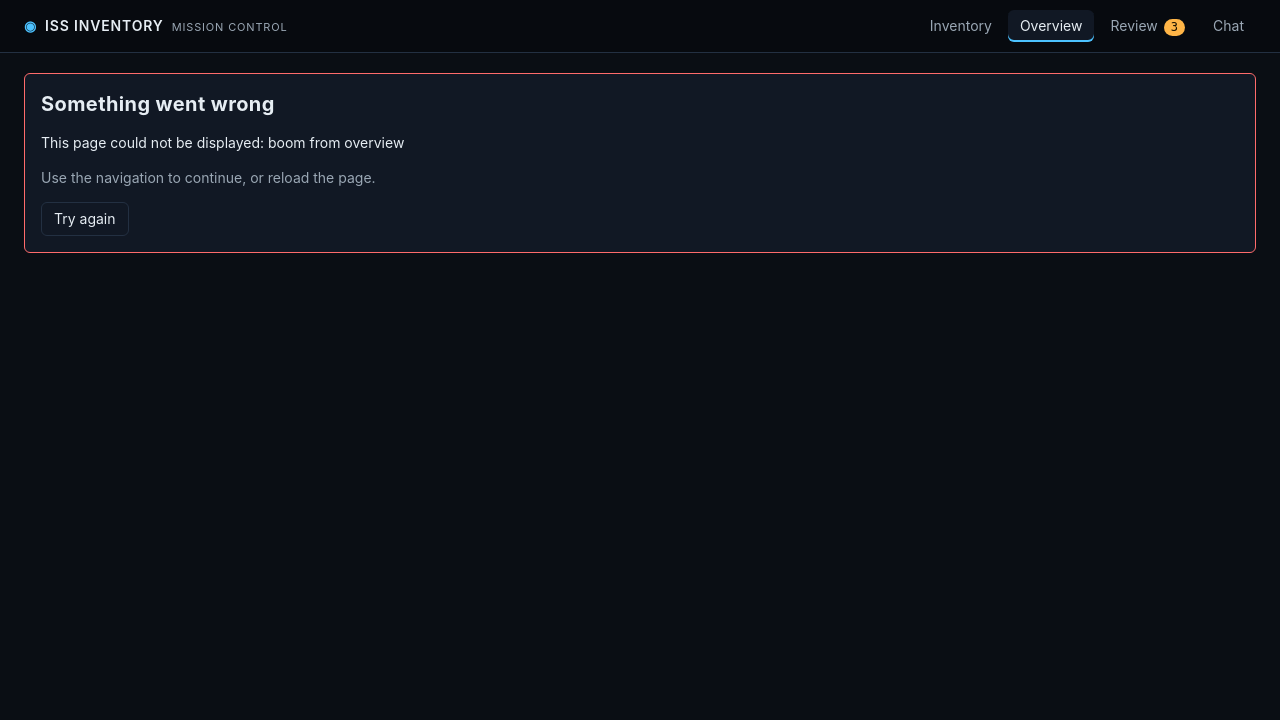
Test: ErrorBoundary (review round 1, AC-UI-10 robustness) › a page that throws during render keeps the shell; the error panel is shown and other pages still work
Expected: the navigation bar is shown, [918,10,1256,42]
# navigating away resets the boundary
Click the link "Chat" at (1228, 26), box [1213,17,1244,34]
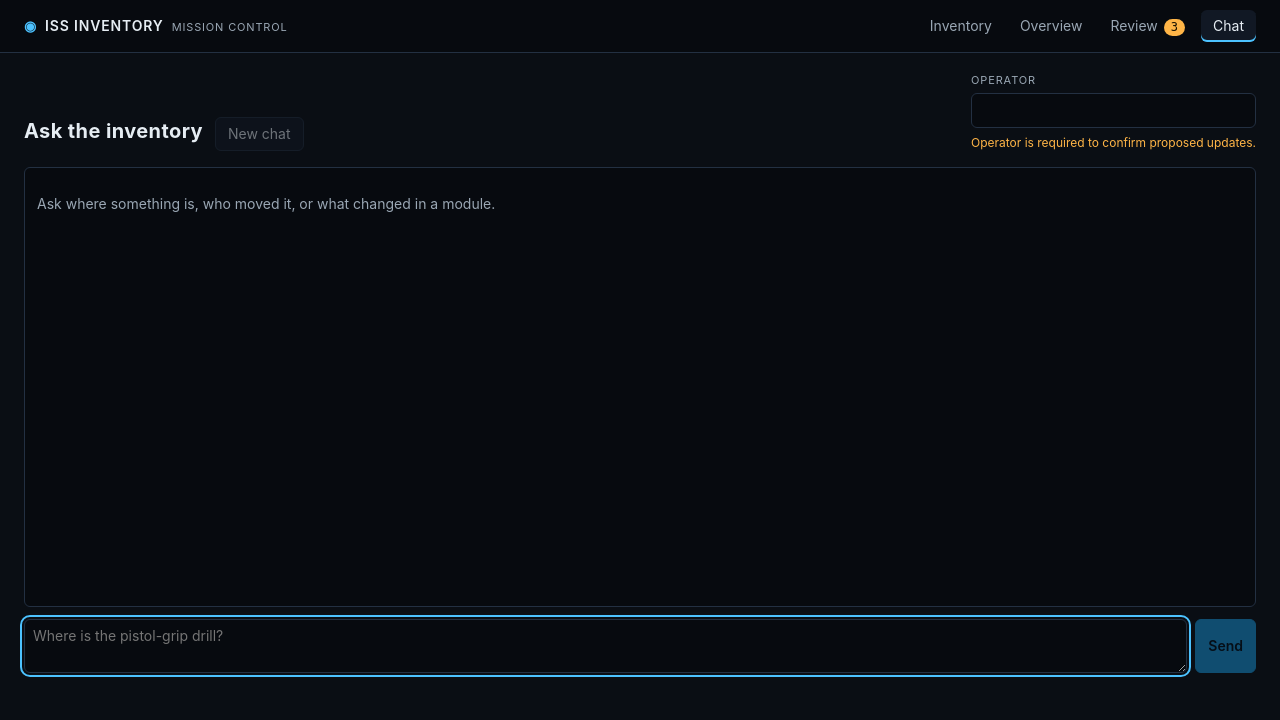
Expected: the text box named "message" is shown, [24,619,1187,673]
Expected: the heading "Something went wrong" is gone
